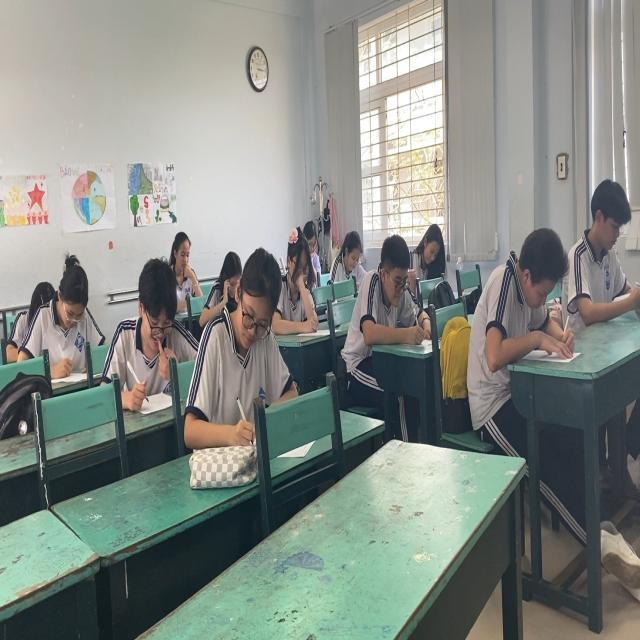not_cheating: (208, 248, 282, 448), (481, 225, 570, 372), (114, 259, 180, 400), (28, 238, 103, 362), (572, 183, 638, 313), (360, 231, 420, 331), (280, 230, 319, 324), (331, 213, 374, 286), (207, 243, 244, 309), (405, 213, 439, 272), (168, 210, 193, 282)
